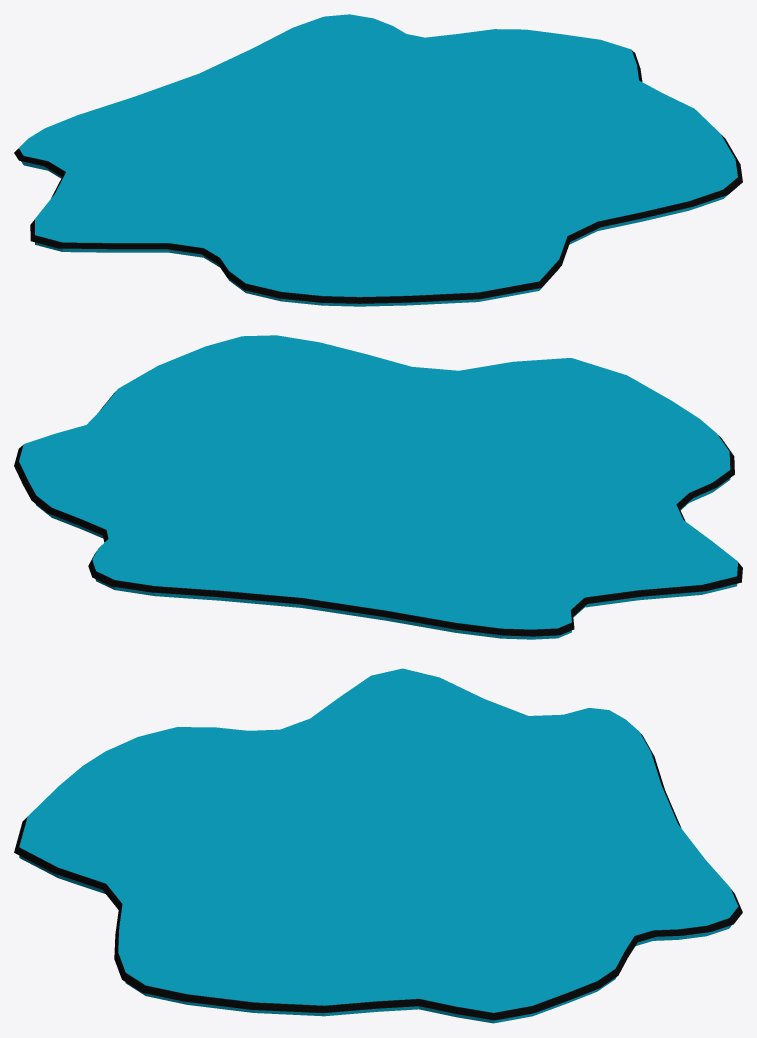
Rendered from Puddle2.fbx.
3 renders of one model, top to bottom at view 1: azimuth 30°, elevation 25°; view 2: azimuth 150°, elevation 25°; view 3: azimuth 270°, elevation 25°, orthographic. The views are drawn at different scales.
Parts seen in each view (by area): view 1: Plane.004; view 2: Plane.004; view 3: Plane.004.
Part boxes in pixels (x1,y1,x2,y2): Plane.004: [14, 14, 742, 306]; Plane.004: [14, 335, 742, 639]; Plane.004: [14, 668, 742, 1023].
Size of the model in its own units: 134 by 1.93 by 118.
